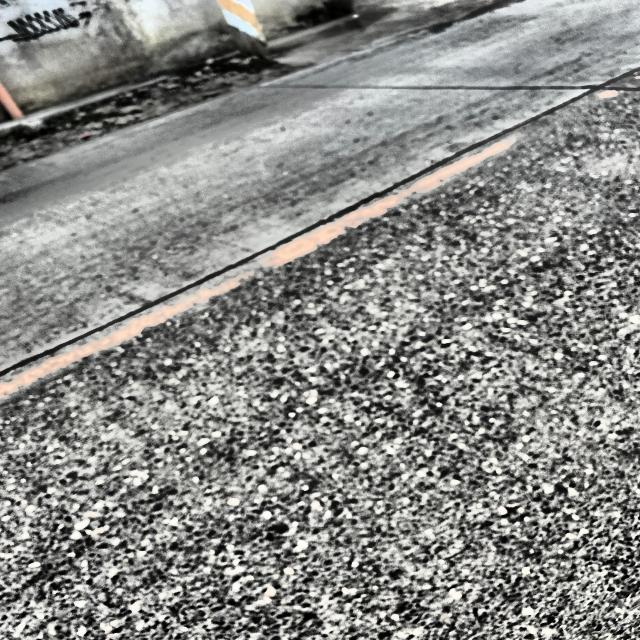major_scaling: (3, 74, 640, 640)
no_or_faded_road_markings: (0, 271, 253, 397), (261, 141, 510, 267)
